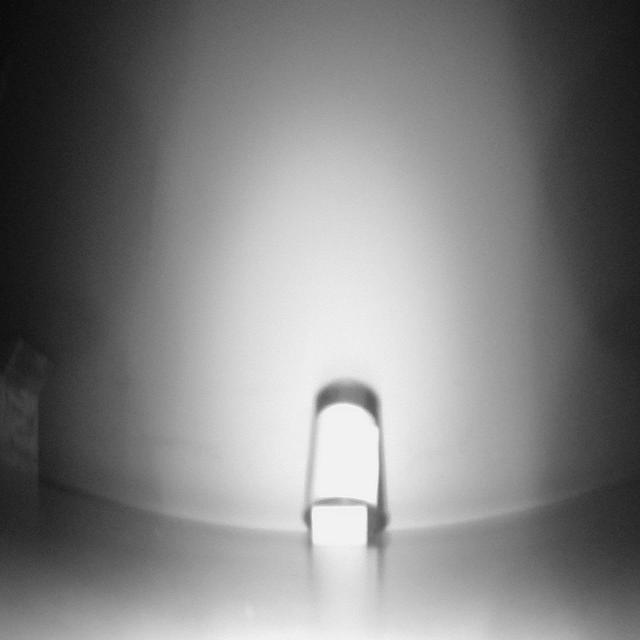targets: (303, 379, 386, 552), (0, 325, 54, 491)
